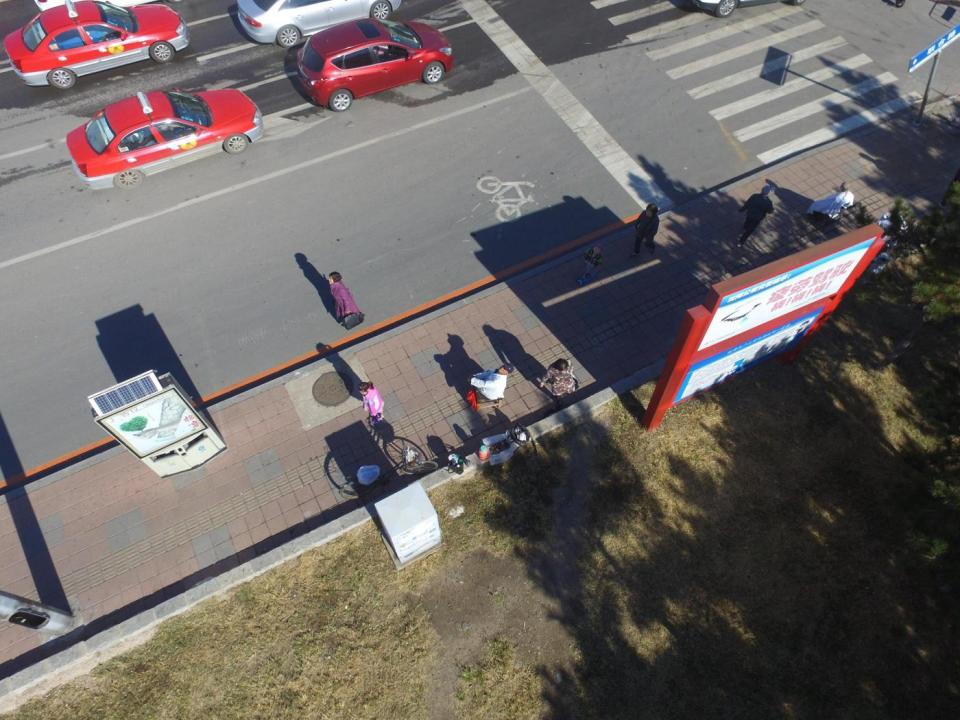car: (63, 85, 266, 192), (4, 0, 202, 92), (294, 21, 453, 110), (236, 1, 402, 49)
